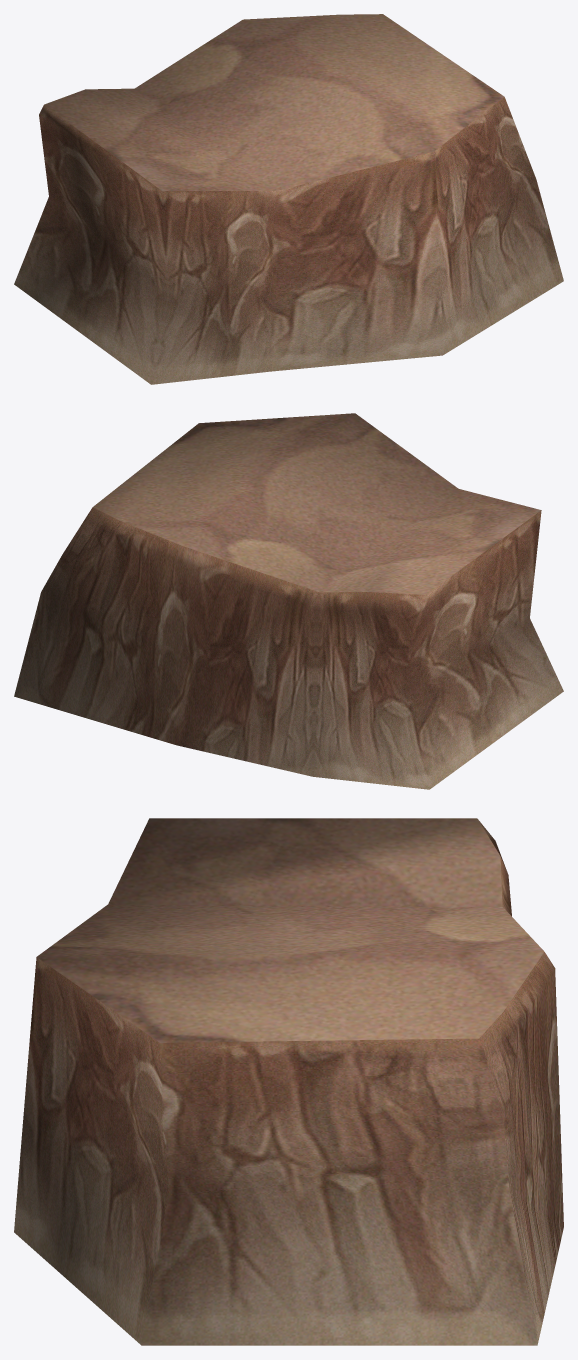
File: archi_0075_02.FBX
3 renders of one model, top to bottom at view 1: azimuth 30°, elevation 25°; view 2: azimuth 150°, elevation 25°; view 3: azimuth 270°, elevation 25°, orthographic. The views are drawn at different scales.
Parts seen in each view (by area): view 1: archi_0075_02; view 2: archi_0075_02; view 3: archi_0075_02.
Boxes of the visible parts, box(x1,y1,x2,y2) form: archi_0075_02: box(14, 14, 563, 384); archi_0075_02: box(14, 413, 563, 789); archi_0075_02: box(14, 818, 563, 1345).
Size of the model in its own units: 40.89 by 18.62 by 33.76.
